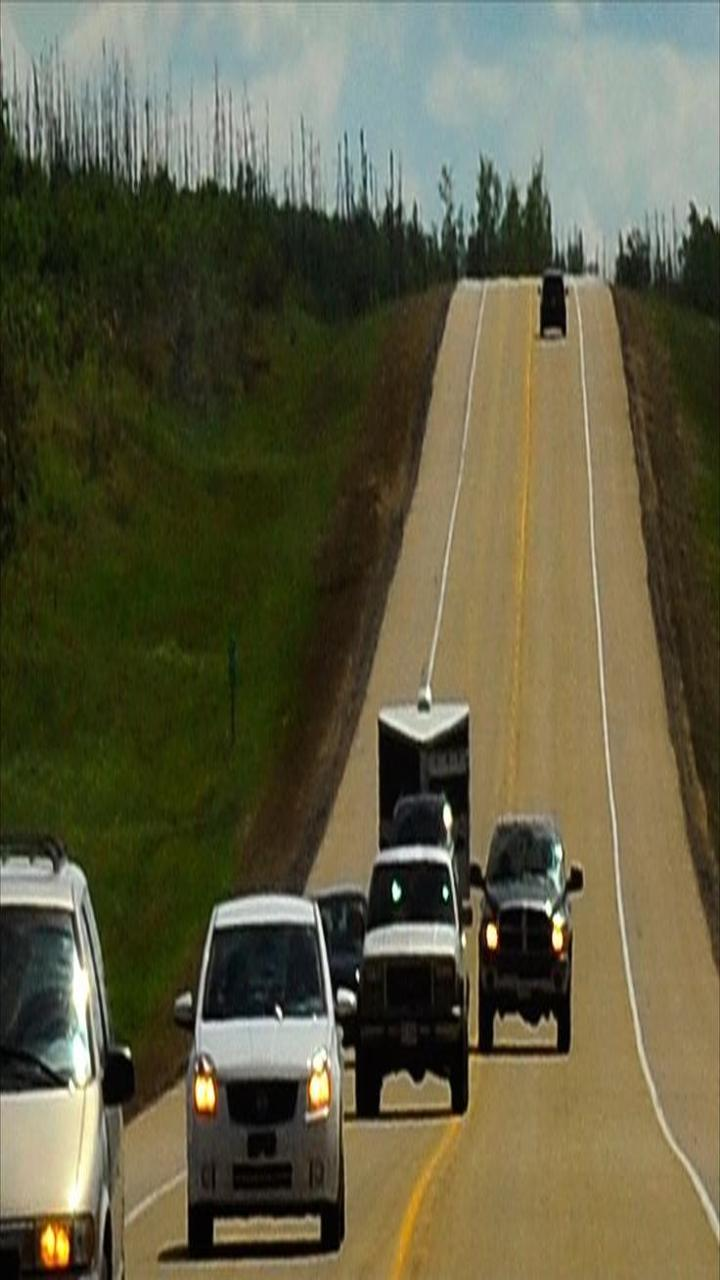vehicle: (186, 892, 354, 1261), (1, 848, 128, 1280), (352, 844, 478, 1125), (480, 817, 583, 1064), (534, 265, 583, 348)
